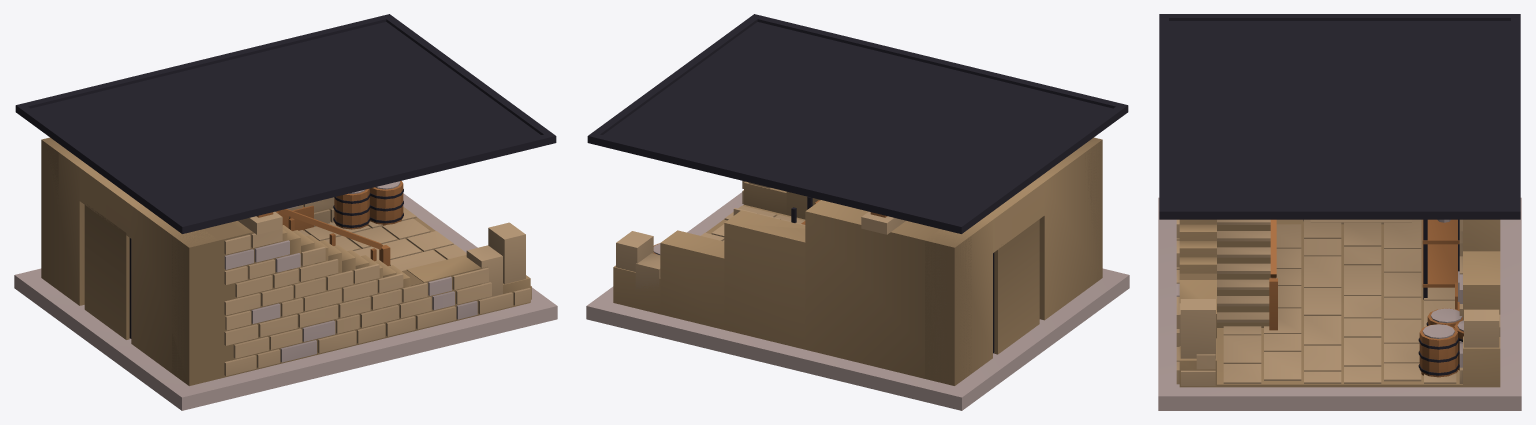
Rendered from int.basement-cellar.lod1.glb.
3 views of the same model, side by side, from view 1: azimuth 30°, elevation 25°; view 2: azimuth 150°, elevation 25°; view 3: azimuth 270°, elevation 25° (orthographic). The views are drawn at different scales.
Visible parts, largest first — view 1: body, roof; view 2: body, roof; view 3: roof, body.
Boxes of the visible parts, <box> form: body: <box>14,137,557,410</box>; roof: <box>15,14,556,233</box>; body: <box>586,137,1129,410</box>; roof: <box>587,14,1128,233</box>; roof: <box>1159,14,1520,219</box>; body: <box>1158,197,1521,410</box>.
Size of the model in its own units: 8.8 by 4.1 by 6.8.
